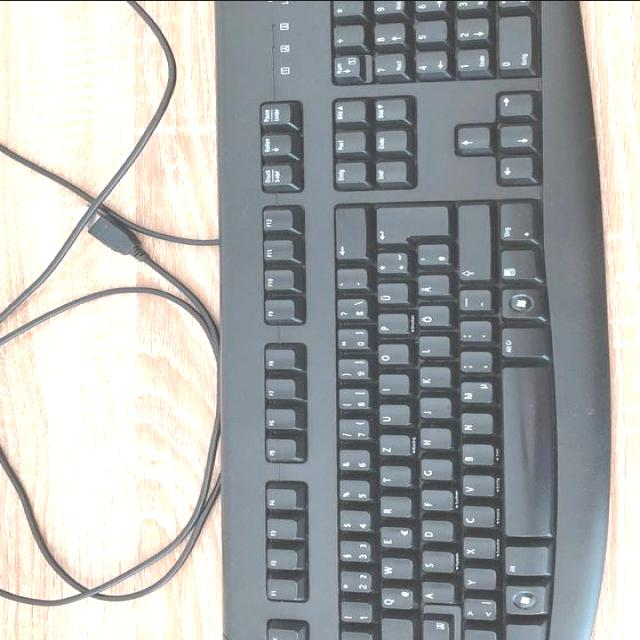0: (333, 329, 369, 353)
1: (336, 603, 370, 626)
2: (336, 572, 369, 596)
3: (335, 541, 369, 565)
4: (335, 512, 368, 535)
5: (334, 481, 368, 504)
6: (334, 450, 368, 474)
7: (334, 420, 368, 444)
8: (334, 389, 368, 413)
9: (333, 360, 369, 384)
a: (416, 584, 450, 606)
accent: (332, 270, 366, 293)
ae: (413, 276, 446, 299)
alt-left: (500, 547, 547, 578)
altgr-right: (496, 329, 543, 361)
b: (456, 445, 490, 469)
c: (457, 508, 490, 531)
caret: (337, 633, 369, 640)
comma: (455, 353, 489, 376)
d: (416, 522, 449, 545)
del: (331, 209, 364, 263)
e: (375, 528, 409, 551)
enter: (372, 208, 446, 248)
f: (416, 492, 449, 514)
g: (416, 461, 449, 482)
h: (415, 429, 448, 452)
hash: (413, 246, 446, 270)
i: (374, 376, 406, 398)
j: (415, 400, 448, 422)
k: (414, 368, 448, 390)
keyboard: (208, 0, 609, 640)
l: (414, 338, 447, 360)
less: (458, 600, 494, 623)
m: (456, 383, 489, 406)
minus: (454, 291, 488, 314)
n: (456, 415, 489, 438)
o: (373, 345, 406, 368)
oe: (413, 307, 447, 330)
p: (373, 315, 406, 338)
plus: (372, 253, 406, 277)
point: (455, 323, 489, 346)
q: (376, 589, 410, 612)
r: (375, 498, 408, 520)
s: (417, 553, 450, 575)
shift-left: (458, 632, 493, 640)
shift-lock: (417, 620, 446, 640)
shift-right: (454, 206, 487, 284)
space: (496, 368, 551, 541)
ss: (331, 299, 367, 323)
strg-left: (500, 626, 541, 640)
strg-right: (496, 203, 534, 245)
t: (375, 468, 407, 489)
tab: (375, 621, 410, 640)
u: (374, 406, 407, 428)
ue: (372, 285, 406, 308)
v: (456, 476, 490, 499)
w: (375, 559, 409, 582)
x: (458, 539, 492, 561)
y: (459, 570, 493, 592)
z: (374, 437, 407, 459)
